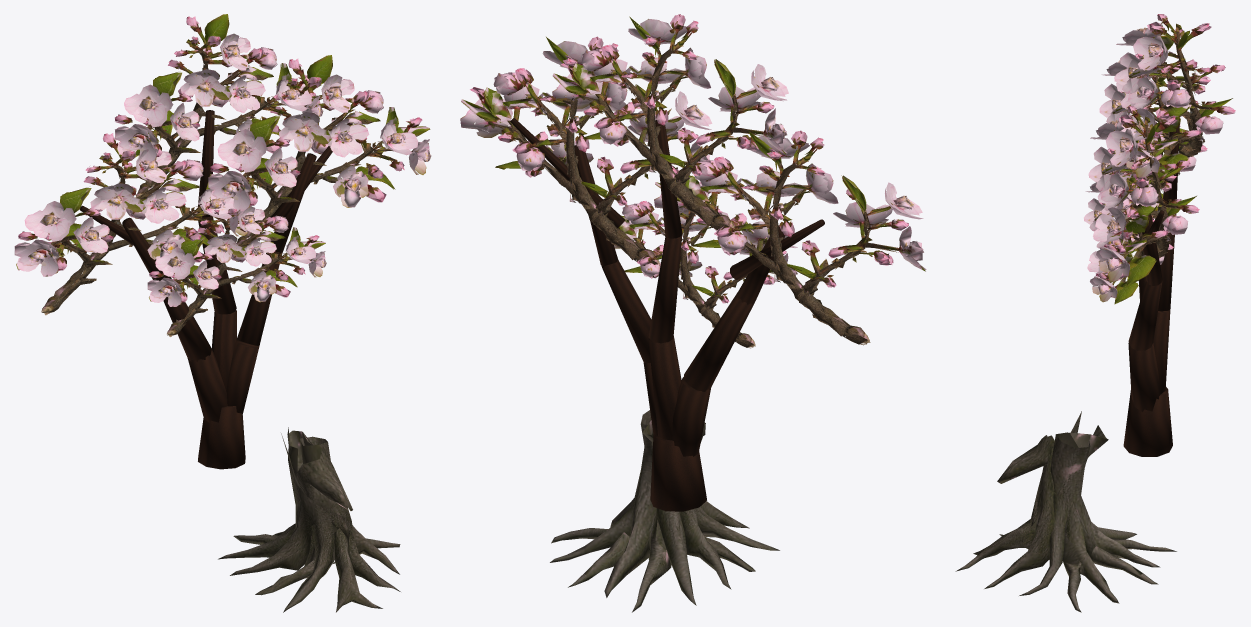
The model's file is midori_sakura_tree_v1.glb.
The picture shows the model from 3 angles, left to right: view 1: azimuth 30°, elevation 25°; view 2: azimuth 150°, elevation 25°; view 3: azimuth 270°, elevation 25°; orthographic projection. The views are drawn at different scales.
Visible parts, largest first — view 1: Sakura_Blossom_Canopy_B, Sakura_Blossom_Canopy_A, Sakura_Blossom_Canopy_C, Sakura_Woody_Trunk, Sakura_Blossom_Canopy_D, Clean_Trunk_Continuation, Clean_Branch_Left_01, Clean_Branch_Right_01, Clean_Branch_Crown_01, Clean_Branch_Left_02, Clean_Branch_Right_02, Clean_Branch_Crown_02 (+3 smaller); view 2: Sakura_Blossom_Canopy_C, Sakura_Blossom_Canopy_A, Sakura_Blossom_Canopy_B, Sakura_Woody_Trunk, Sakura_Blossom_Canopy_D, Clean_Trunk_Continuation, Clean_Branch_Left_02, Clean_Branch_Crown_01, Clean_Branch_Crown_02, Clean_Branch_Left_01, Clean_Branch_Right_02, Clean_Branch_Crown_03 (+4 smaller); view 3: Sakura_Woody_Trunk, Sakura_Blossom_Canopy_B, Sakura_Blossom_Canopy_C, Clean_Trunk_Continuation, Sakura_Blossom_Canopy_D, Sakura_Blossom_Canopy_A, Clean_Branch_Right_01, Clean_Branch_Right_02, Clean_Branch_Crown_01, Clean_Branch_Crown_02, Clean_Branch_Right_03, Clean_Branch_Crown_03.
Boxes of the visible parts, x1,y1,x2,y2 form: Sakura_Blossom_Canopy_B: (208, 55, 431, 246); Sakura_Blossom_Canopy_A: (14, 133, 251, 315); Sakura_Blossom_Canopy_C: (115, 14, 323, 199); Sakura_Woody_Trunk: (218, 427, 400, 612); Sakura_Blossom_Canopy_D: (147, 197, 326, 336); Clean_Trunk_Continuation: (198, 406, 245, 469); Clean_Branch_Left_01: (187, 349, 227, 422); Clean_Branch_Right_01: (226, 340, 259, 415); Clean_Branch_Crown_01: (212, 310, 236, 390); Clean_Branch_Left_02: (163, 284, 211, 362); Clean_Branch_Right_02: (236, 252, 282, 345); Clean_Branch_Crown_02: (198, 215, 236, 314); Sakura_Blossom_Canopy_C: (552, 14, 788, 231); Sakura_Blossom_Canopy_A: (654, 130, 926, 345); Sakura_Blossom_Canopy_B: (460, 36, 712, 266); Sakura_Woody_Trunk: (550, 410, 779, 612); Sakura_Blossom_Canopy_D: (614, 181, 797, 348); Clean_Trunk_Continuation: (650, 434, 706, 511); Clean_Branch_Left_02: (684, 292, 754, 391); Clean_Branch_Crown_01: (648, 336, 681, 440); Clean_Branch_Crown_02: (648, 235, 682, 343); Clean_Branch_Left_01: (672, 377, 710, 456); Clean_Branch_Right_02: (601, 260, 651, 362); Clean_Branch_Crown_03: (655, 120, 682, 238); Sakura_Woody_Trunk: (955, 411, 1176, 612); Sakura_Blossom_Canopy_B: (1088, 106, 1199, 286); Sakura_Blossom_Canopy_C: (1114, 14, 1235, 179); Clean_Trunk_Continuation: (1123, 387, 1172, 456); Sakura_Blossom_Canopy_D: (1084, 182, 1173, 304); Sakura_Blossom_Canopy_A: (1099, 60, 1207, 219); Clean_Branch_Right_01: (1128, 343, 1160, 411); Clean_Branch_Right_02: (1128, 281, 1162, 350); Clean_Branch_Crown_01: (1153, 310, 1170, 393); Clean_Branch_Crown_02: (1158, 207, 1176, 311); Clean_Branch_Right_03: (1142, 214, 1162, 285); Clean_Branch_Crown_03: (1163, 116, 1180, 204).
Bounding box in the file's own units: 7.55 × 9.28 × 4.54.
3 materials, 3 textured.
